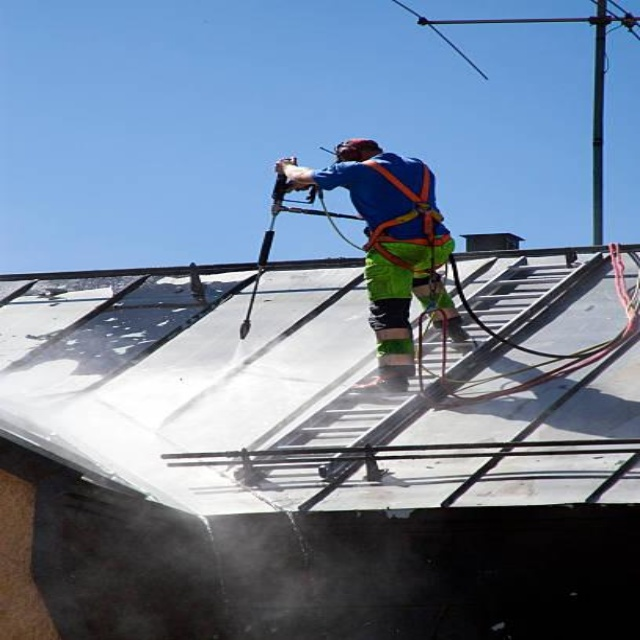Arnes_seguridad: (349, 158, 453, 282)
